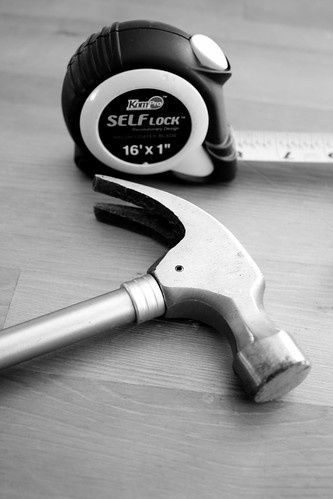hammer: (0, 172, 310, 411)
